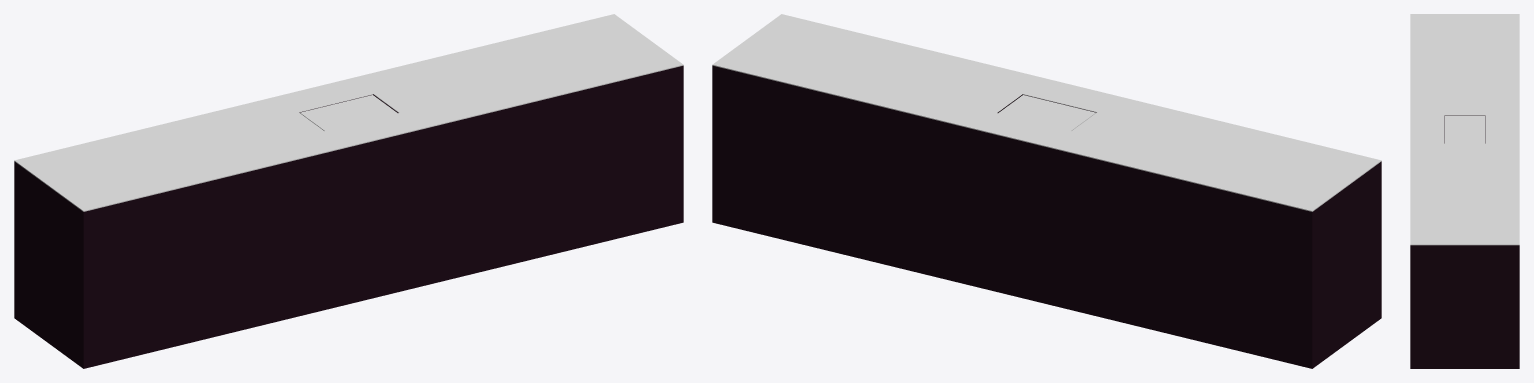
Rendered from _anRuaBat.fbx.
3 views of the same model, side by side, from view 1: azimuth 30°, elevation 25°; view 2: azimuth 150°, elevation 25°; view 3: azimuth 270°, elevation 25° (orthographic). The views are drawn at different scales.
Visible parts, largest first — view 1: BanRuaBat; view 2: BanRuaBat; view 3: BanRuaBat.
Part boxes in pixels (bbox=[...]): BanRuaBat: bbox=[14, 14, 683, 368]; BanRuaBat: bbox=[712, 14, 1381, 368]; BanRuaBat: bbox=[1410, 14, 1519, 368].
Bounding box in the file's own units: 4 × 1.01 × 0.8.
